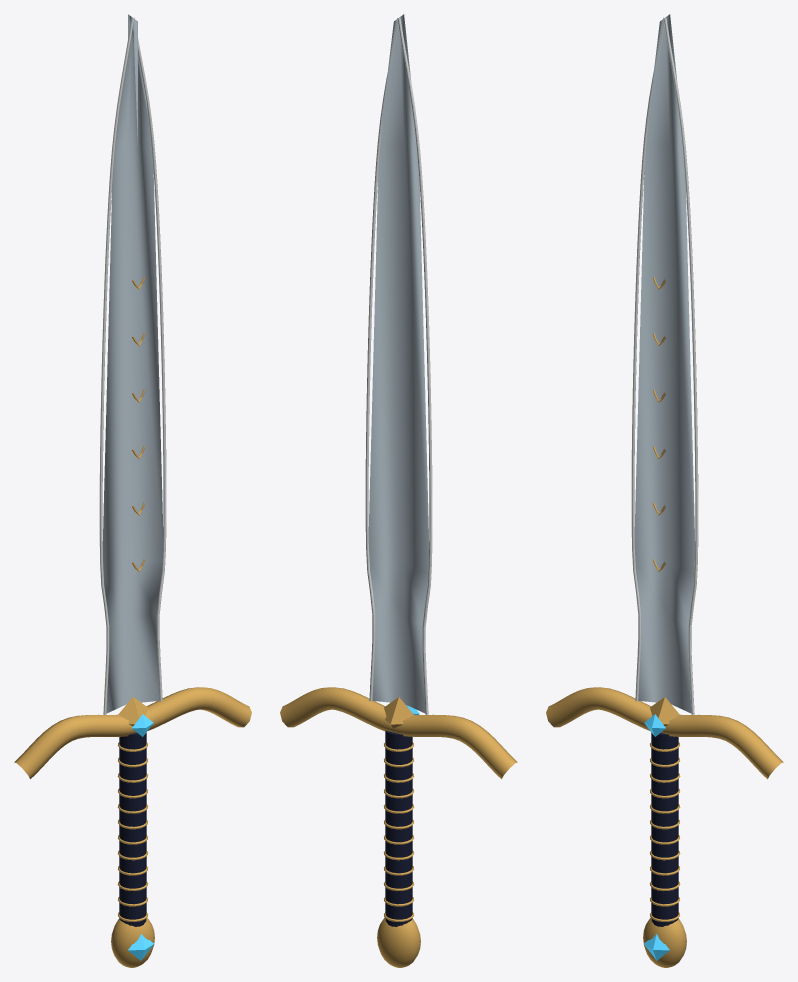
Rendered from aureate-sword.glb.
3 renders of one model, left to right at view 1: azimuth 30°, elevation 25°; view 2: azimuth 150°, elevation 25°; view 3: azimuth 330°, elevation 25°, orthographic.
Visible parts, largest first — view 1: Sword2H; view 2: Sword2H; view 3: Sword2H.
Boxes of the visible parts, x1,y1,x2,y2 form: Sword2H: (14,14,251,967); Sword2H: (280,14,517,967); Sword2H: (546,14,783,967).
Bounding box in the file's own units: 0.315 × 1.23 × 0.0521.
